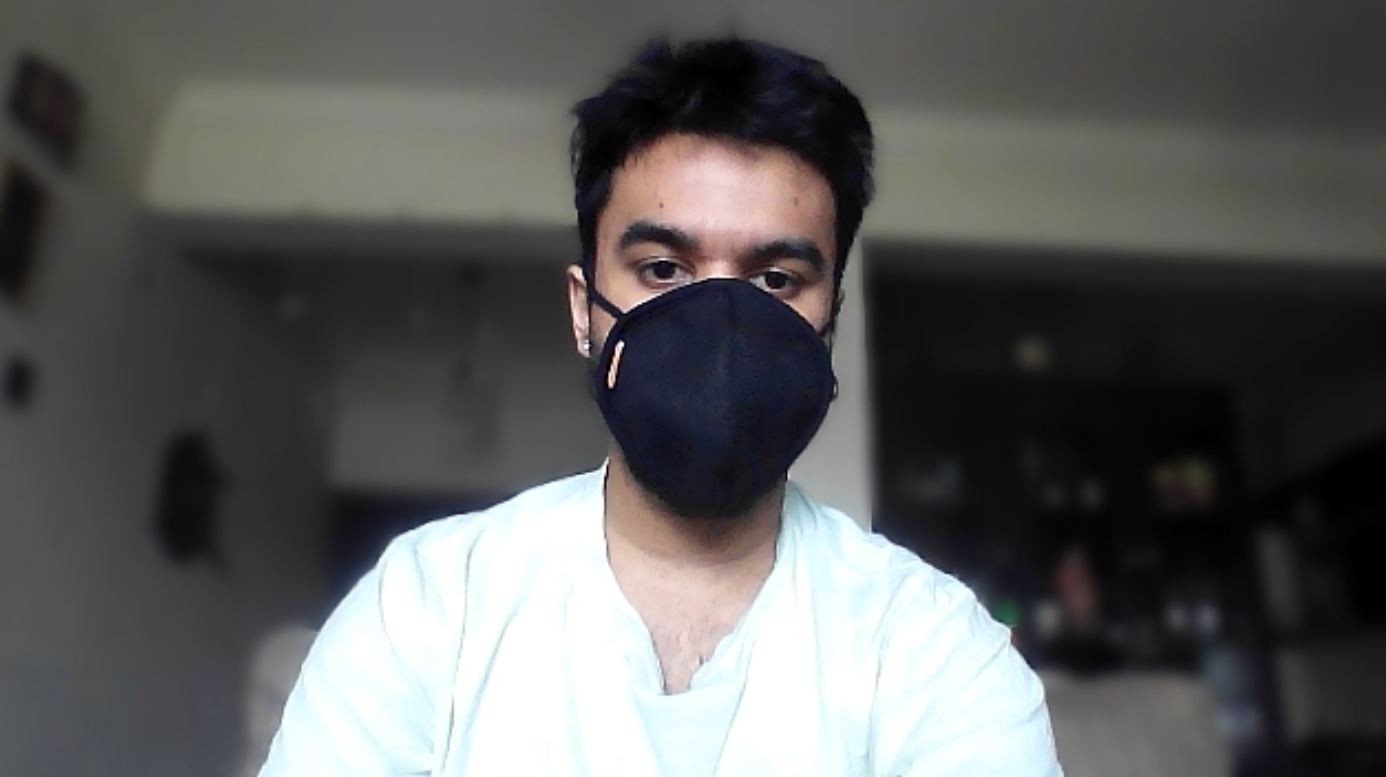Mask: (582, 277, 845, 518)
